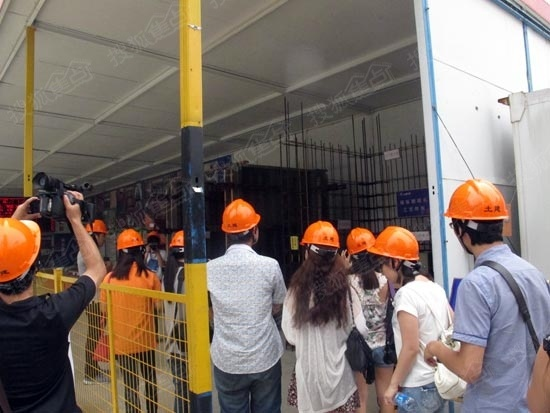yellow: (445, 178, 514, 256), (1, 214, 50, 296), (371, 223, 423, 285), (299, 217, 343, 266), (218, 197, 262, 245), (345, 226, 377, 266), (114, 227, 148, 264), (83, 219, 108, 248)
